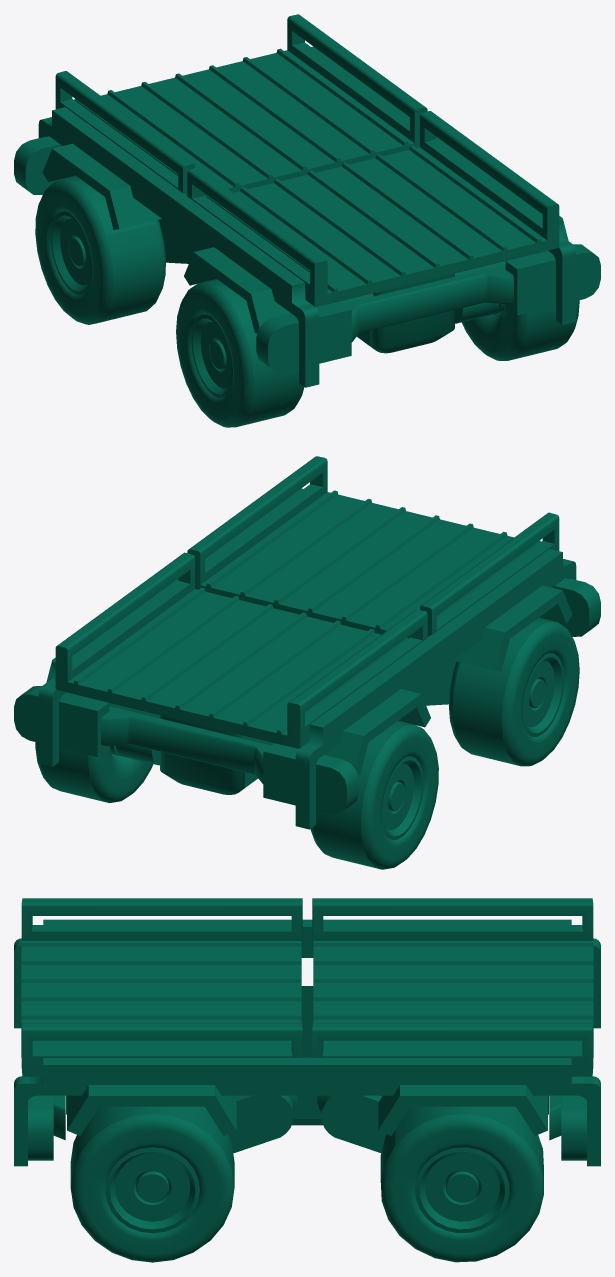
Rendered from PowerCart_02.fbx.
3 views of the same model, one above another, from view 1: azimuth 30°, elevation 25°; view 2: azimuth 150°, elevation 25°; view 3: azimuth 270°, elevation 25° (orthographic). The views are drawn at different scales.
Visible parts, largest first — view 1: PowerCart_02; view 2: PowerCart_02; view 3: PowerCart_02.
Boxes of the visible parts, x1,y1,x2,y2 form: PowerCart_02: (14,14,600,427); PowerCart_02: (14,456,600,869); PowerCart_02: (14,898,600,1262).
Size of the model in its own units: 312 by 172 by 430.
